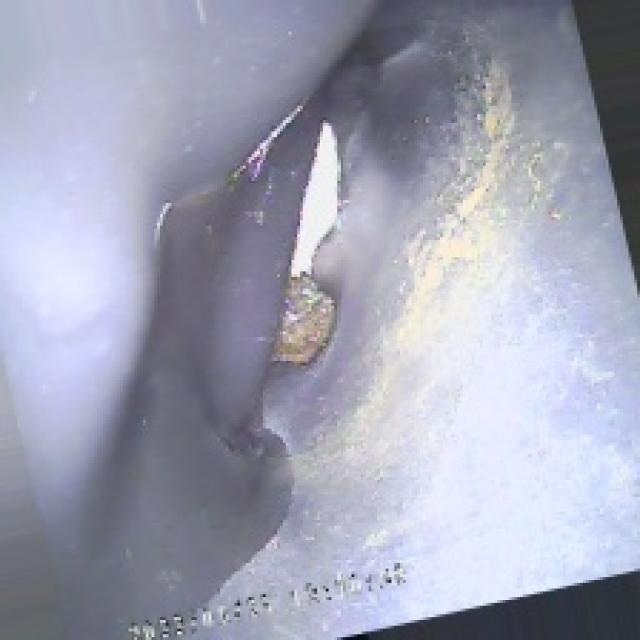shape_deformation: (32, 43, 554, 488)
